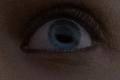eye: (48, 20, 80, 49)
